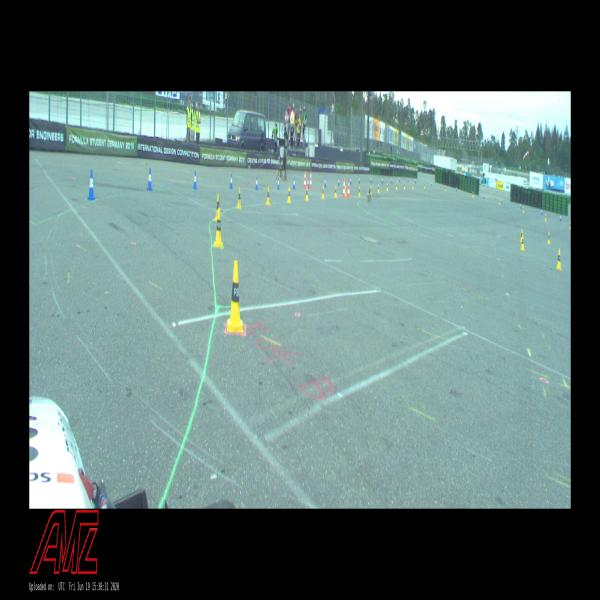blue_cone: (87, 170, 95, 200), (147, 168, 153, 189), (193, 171, 197, 188), (229, 174, 233, 189), (277, 178, 280, 189), (256, 177, 258, 190), (293, 177, 295, 188), (307, 178, 309, 189), (338, 177, 340, 186), (324, 178, 326, 186), (358, 176, 360, 183), (350, 177, 352, 184), (455, 186, 457, 192), (398, 176, 400, 182), (541, 208, 543, 214), (414, 178, 416, 183), (430, 181, 432, 186), (501, 198, 503, 202), (371, 176, 372, 183), (520, 202, 521, 209), (382, 178, 383, 184), (391, 177, 392, 183), (560, 215, 561, 221), (483, 193, 484, 199), (408, 177, 409, 182)
large_orange_cone: (303, 170, 306, 188), (343, 179, 346, 197), (309, 171, 312, 188), (347, 180, 350, 197)
yellow_cone: (226, 260, 244, 332), (214, 208, 223, 247), (214, 193, 222, 221), (556, 249, 562, 270), (237, 186, 242, 208), (266, 186, 270, 205), (287, 186, 291, 203), (520, 235, 524, 250), (334, 185, 337, 198), (547, 232, 550, 244), (520, 230, 523, 242), (306, 186, 308, 200), (322, 186, 324, 199), (345, 186, 347, 197), (358, 186, 360, 196), (370, 186, 372, 195), (386, 183, 388, 191), (378, 184, 380, 192), (569, 222, 571, 229), (412, 182, 414, 189), (444, 185, 446, 192), (472, 192, 474, 198), (403, 183, 405, 189), (396, 182, 397, 190), (545, 214, 546, 221), (523, 205, 524, 212), (499, 198, 500, 205), (424, 182, 425, 188)
